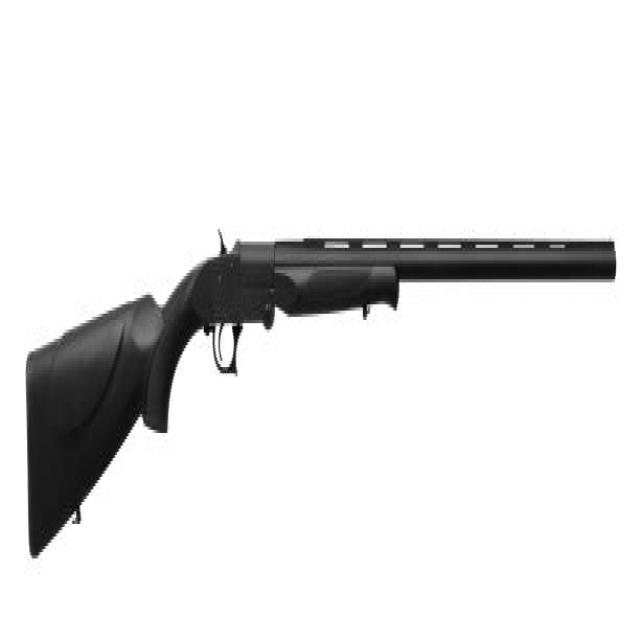rifle: (25, 224, 620, 569)
